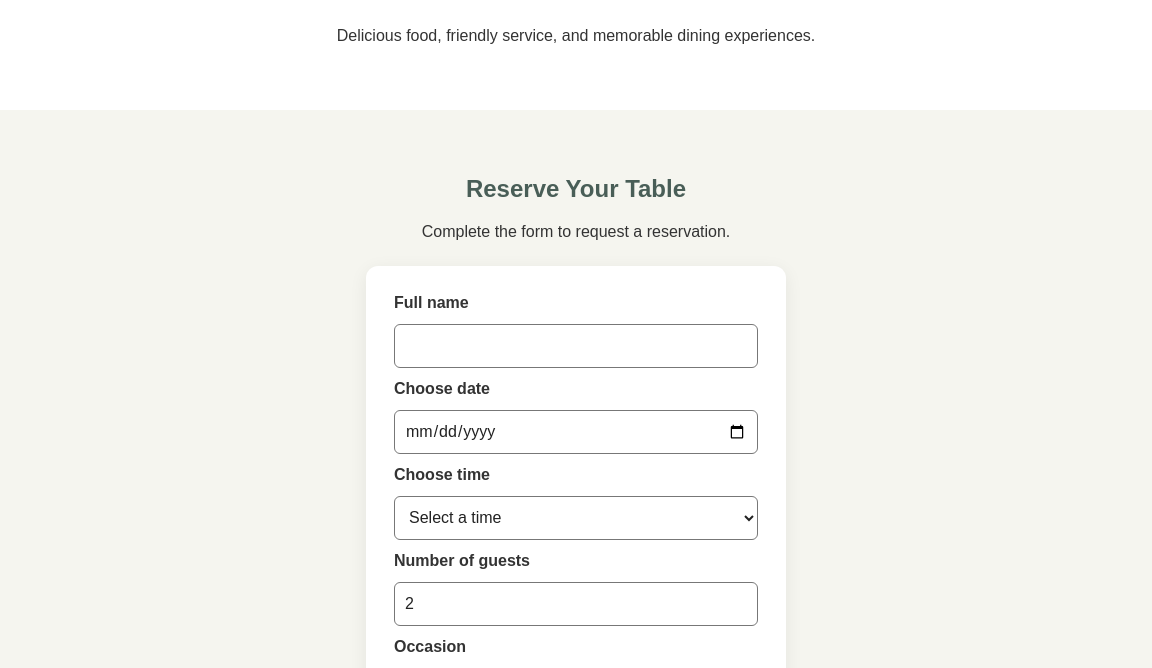
Test case: Little Lemon booking form › shows a confirmation for valid booking details
(page scrolled)
Type "Test Guest" into the field labelled "Full name". click: (576, 346)
box: x1=394 y1=324 x2=758 y2=368
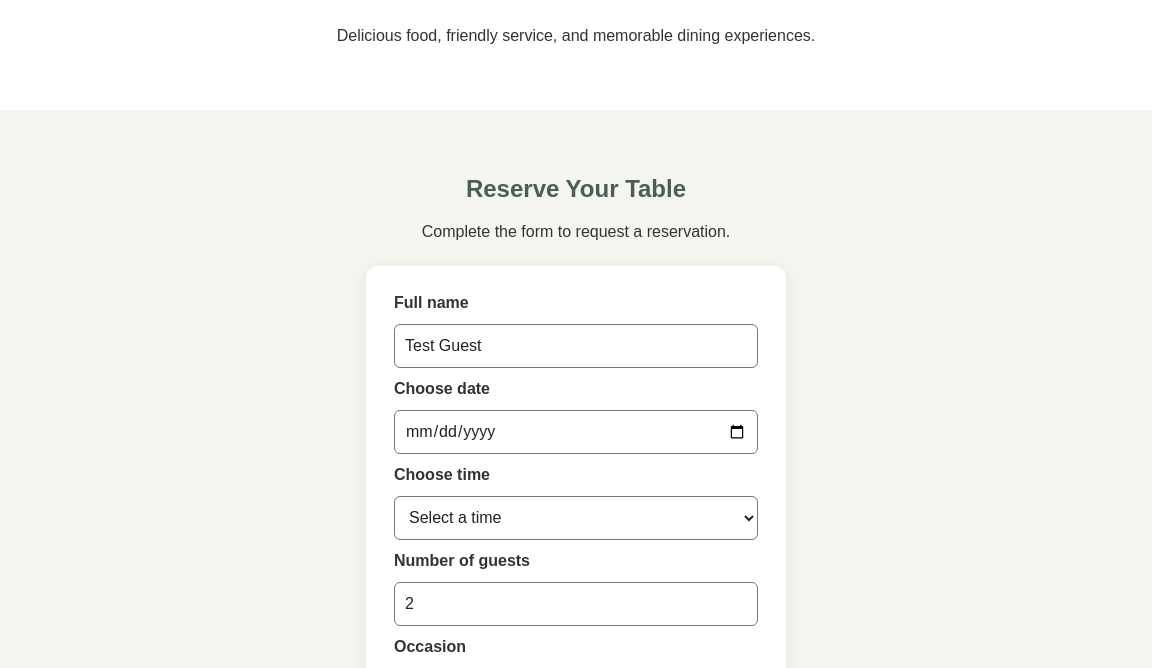
Type "2026-10-23" into the date field labelled "Choose date". click: (576, 432)
box: x1=394 y1=410 x2=758 y2=454
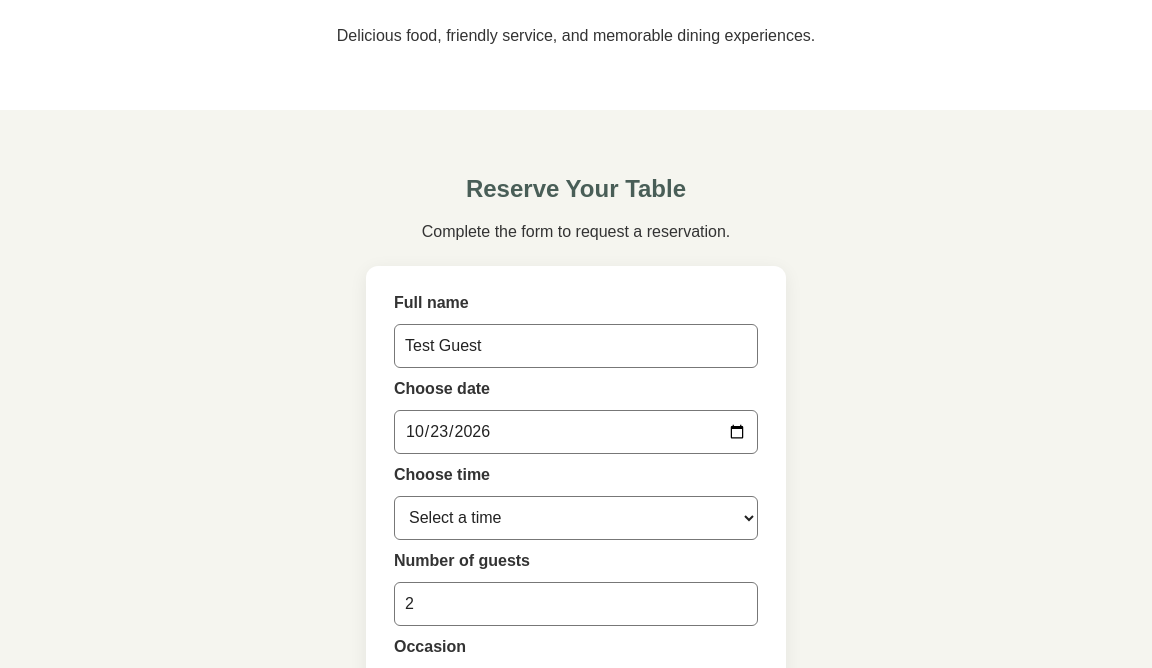
Select "18:00" in the dropdown labelled "Choose time". click: (576, 518)
box: x1=394 y1=496 x2=758 y2=540
(page scrolled)
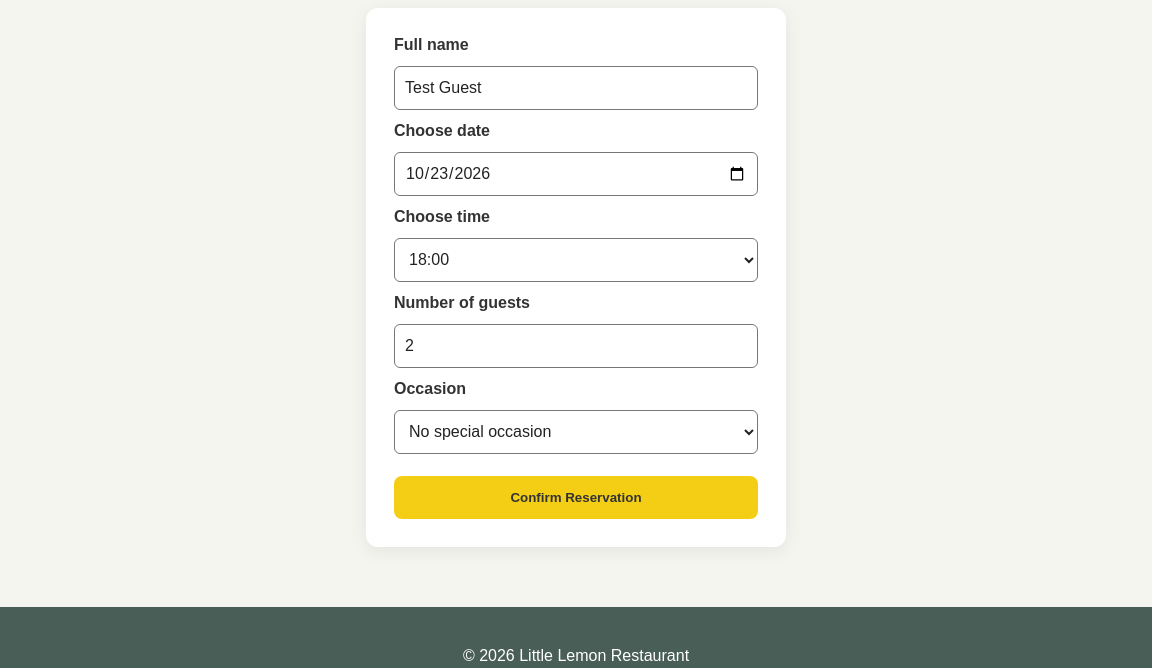
Click the button "Confirm Reservation". click: (576, 497)
box: x1=394 y1=476 x2=758 y2=519
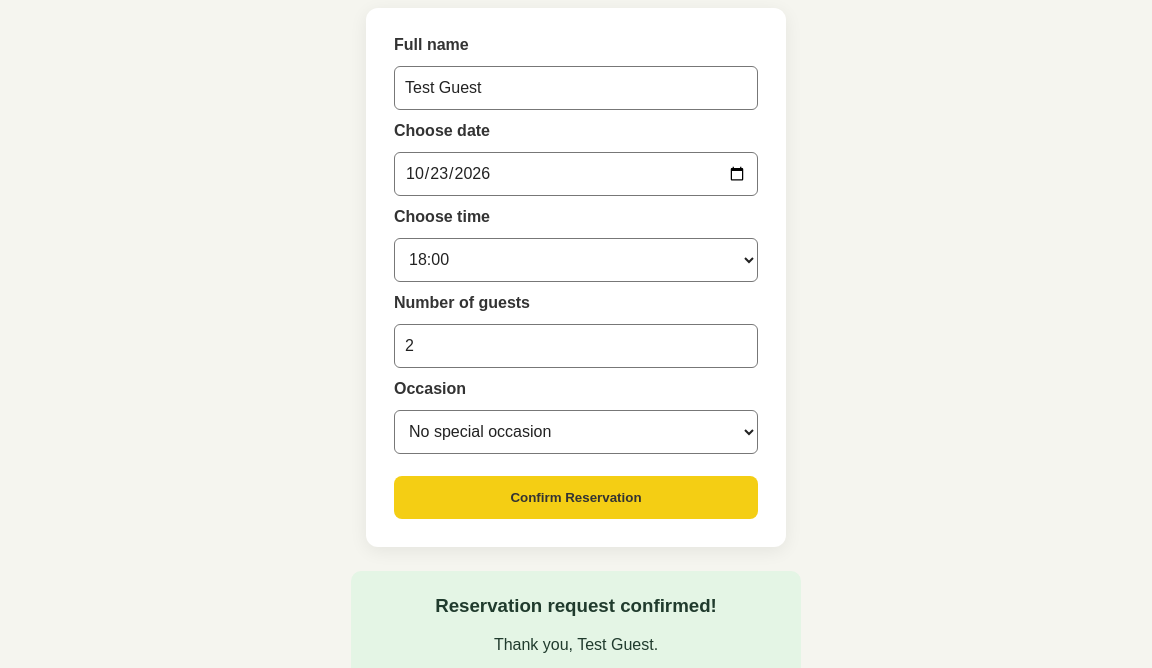
Expected: the heading "Reservation request confirmed!" is shown, x1=435 y1=595 x2=717 y2=616
